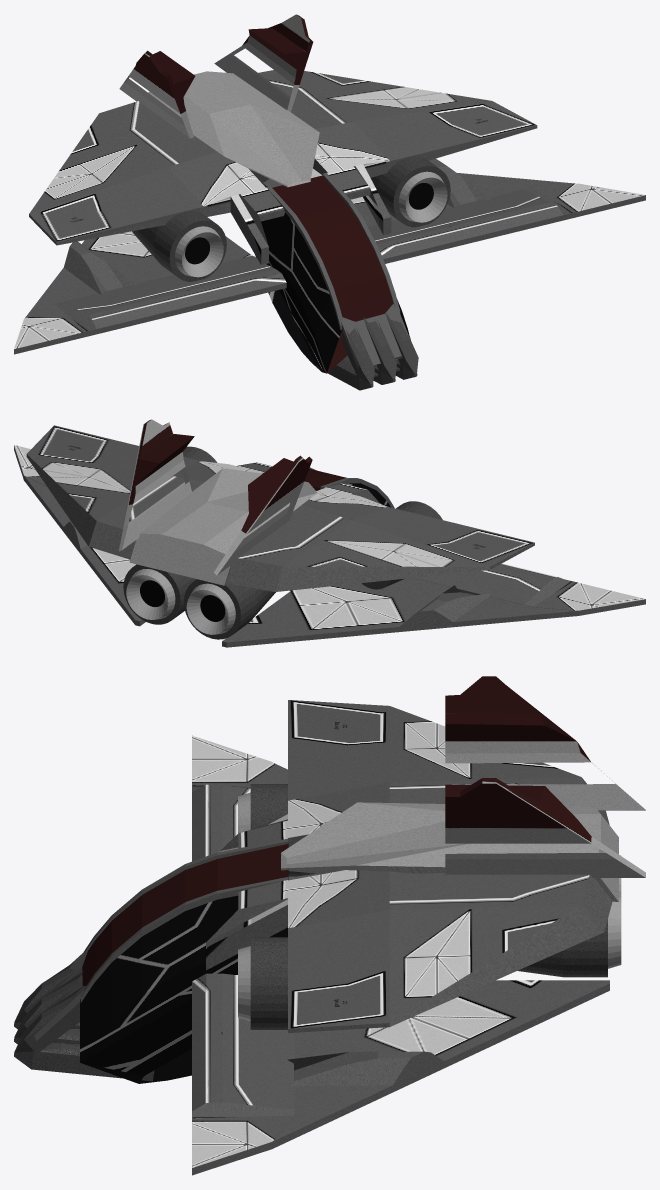
The model's file is Spaceship.obj.
3 views of the same model, one above another, from view 1: azimuth 30°, elevation 25°; view 2: azimuth 150°, elevation 25°; view 3: azimuth 270°, elevation 25° (orthographic). The views are drawn at different scales.
Parts seen in each view (by area): view 1: Cube.003_Cube.006; view 2: Cube.003_Cube.006; view 3: Cube.003_Cube.006.
Part boxes in pixels (bbox=[...]): Cube.003_Cube.006: bbox=[14, 14, 645, 390]; Cube.003_Cube.006: bbox=[14, 419, 645, 647]; Cube.003_Cube.006: bbox=[14, 676, 645, 1175].
Size of the model in its own units: 20.1 by 7.3 by 12.41.
Materials: 7 (7 with a texture image).
